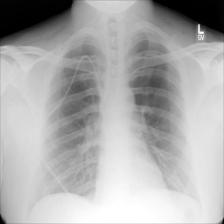normal: (29, 32, 204, 208)
